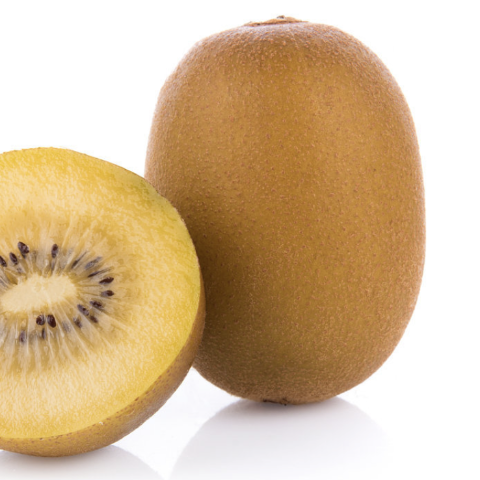kiwi: (97, 0, 479, 449)
